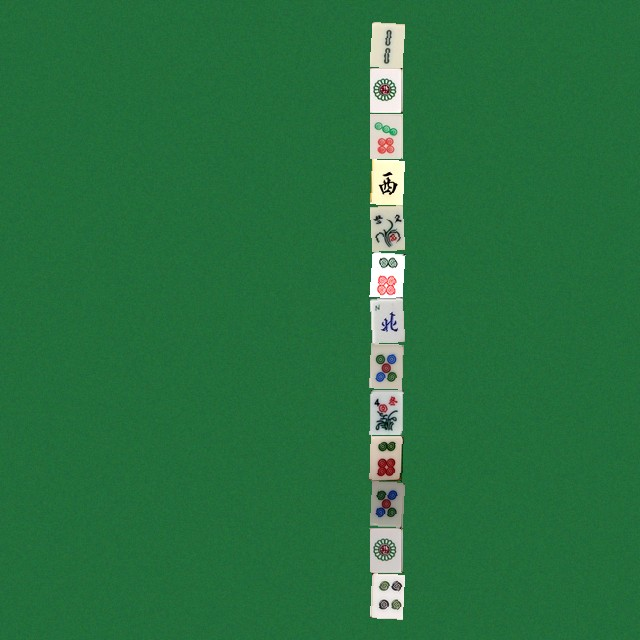tile: (369, 21, 402, 66), (369, 67, 402, 112), (369, 113, 402, 158), (369, 159, 402, 204), (369, 205, 402, 250), (369, 251, 402, 296), (369, 297, 402, 342), (369, 343, 402, 388), (369, 389, 402, 434), (369, 435, 402, 480), (369, 481, 402, 526), (369, 527, 402, 572), (369, 573, 402, 618)
